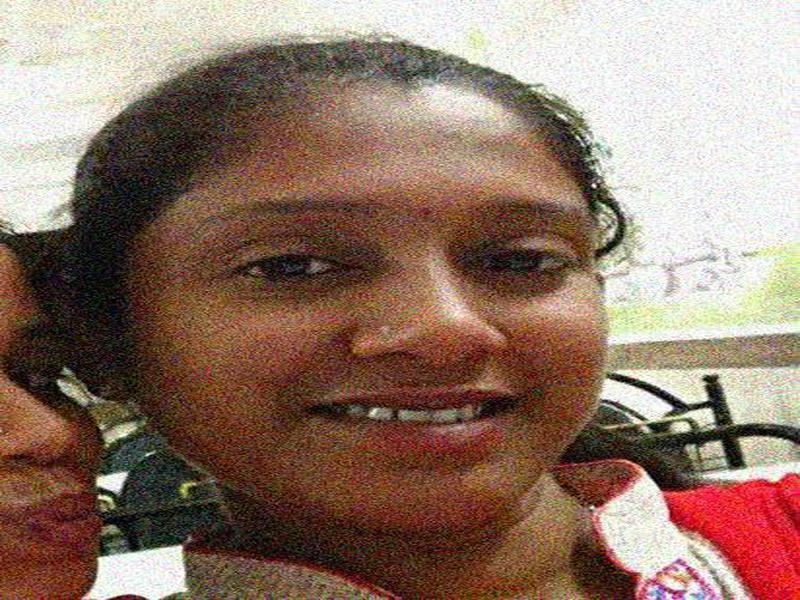without_mask: (123, 97, 606, 536)
